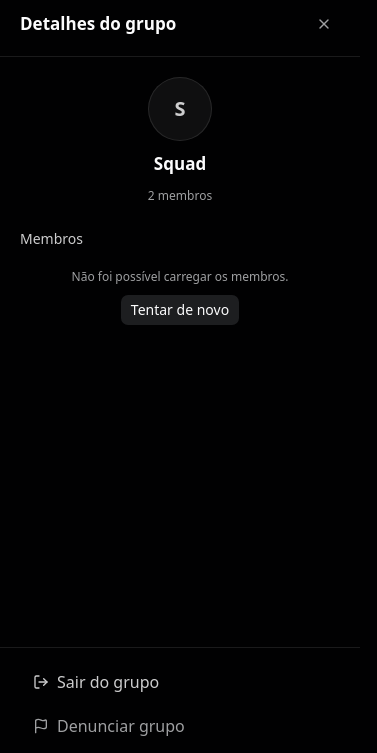
Scenario: GroupDetailsPanel — invitations › an error loading members offers a retry
Click the button "Tentar de novo" at {"x": 180, "y": 310}, box [120,294,240,326]
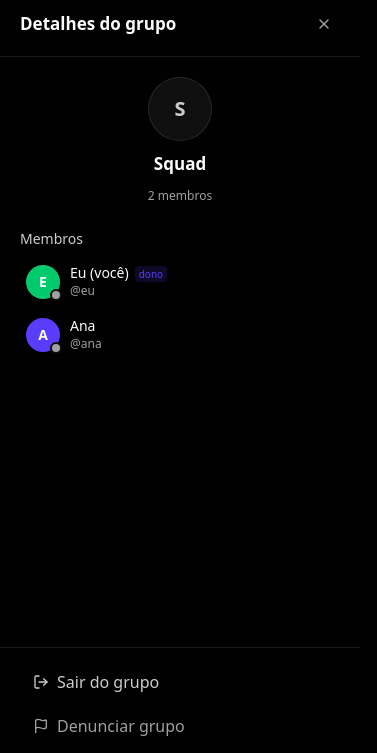
Expected: the text "Ana" is shown, [70,316,96,335]
